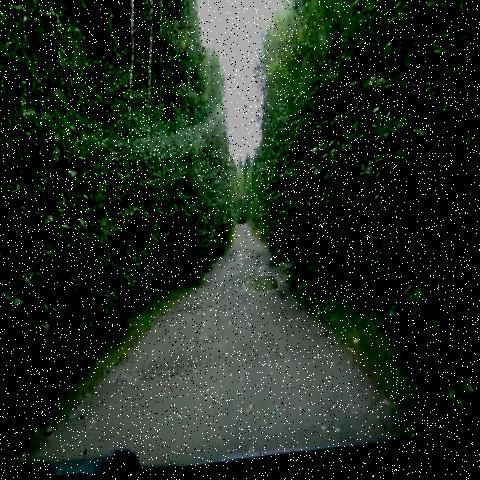pothole: (118, 333, 231, 399), (238, 258, 284, 315), (181, 294, 212, 325)
